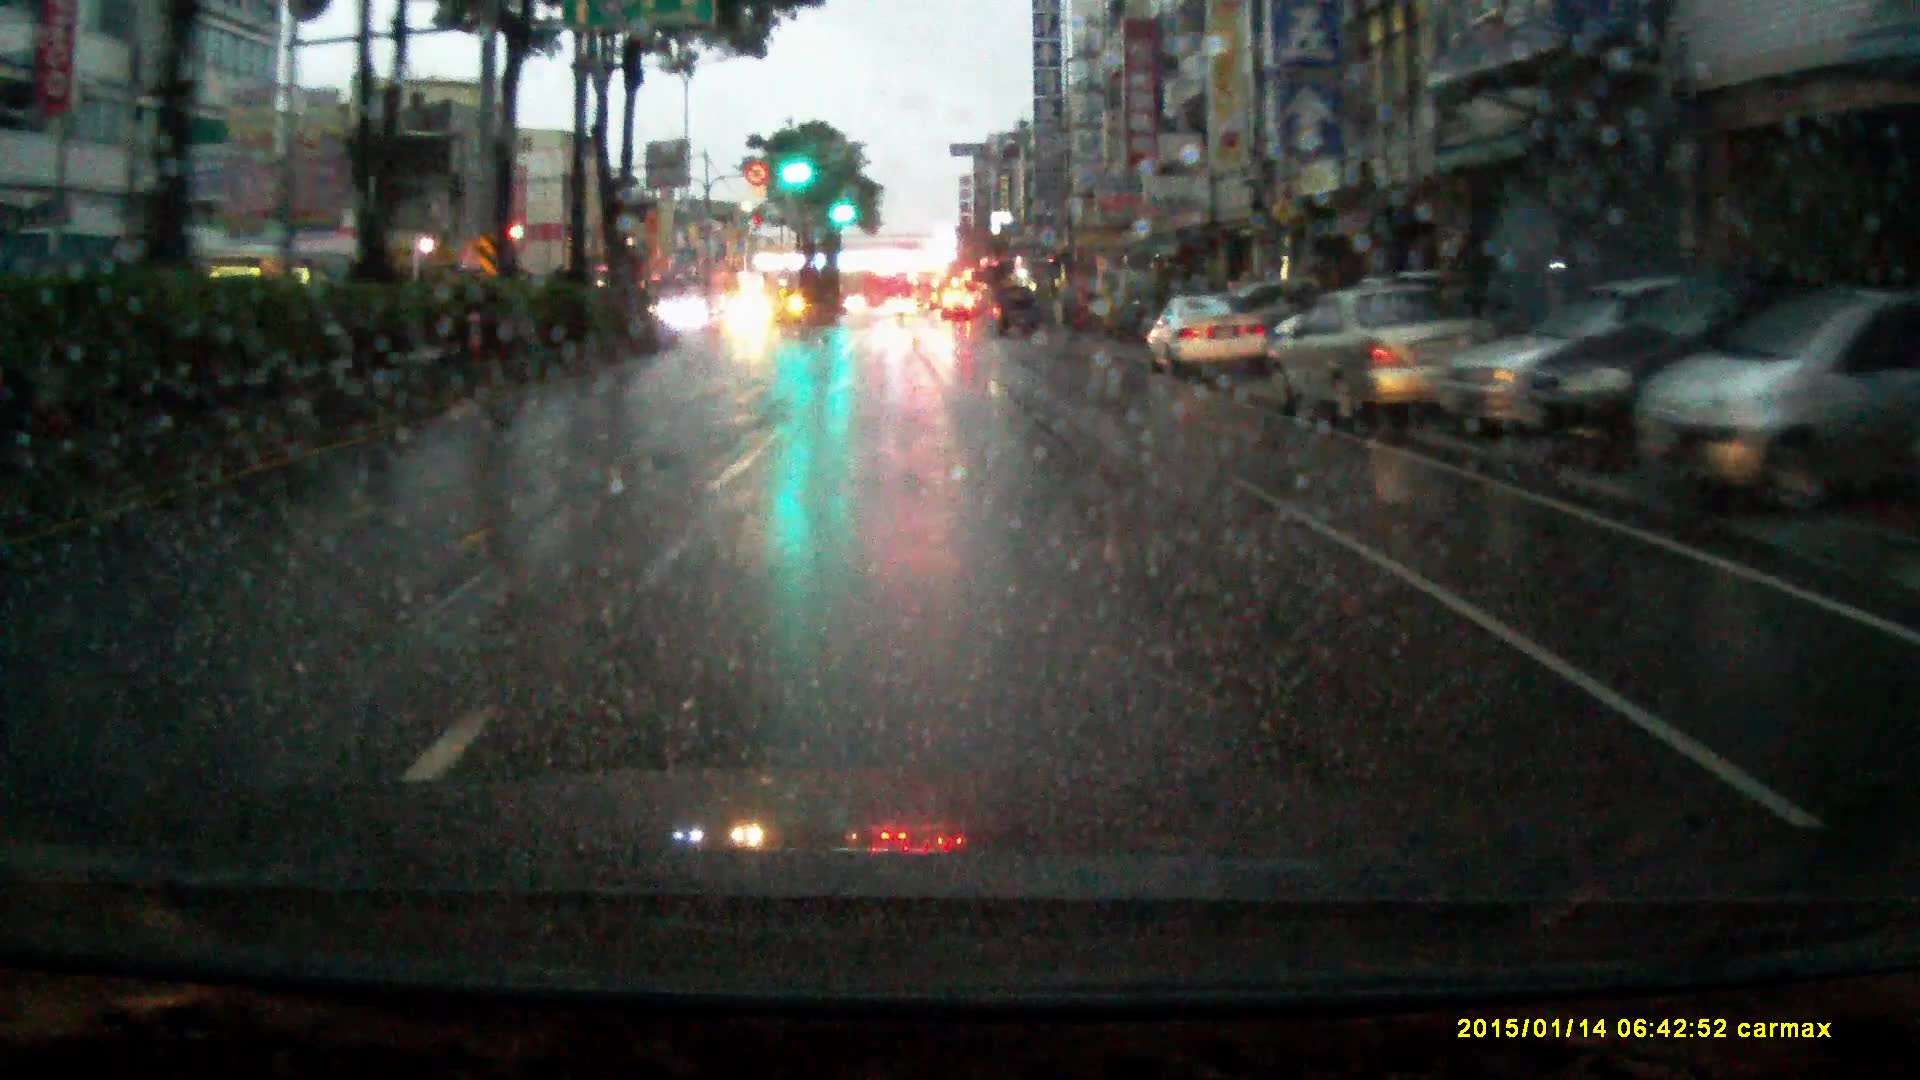vehicle: (1651, 314, 1920, 514), (1535, 290, 1805, 477), (1265, 291, 1505, 440), (1445, 301, 1664, 444), (1146, 289, 1279, 382), (723, 301, 778, 349), (986, 295, 1036, 344), (914, 278, 940, 320), (942, 297, 975, 327), (886, 305, 918, 324)
